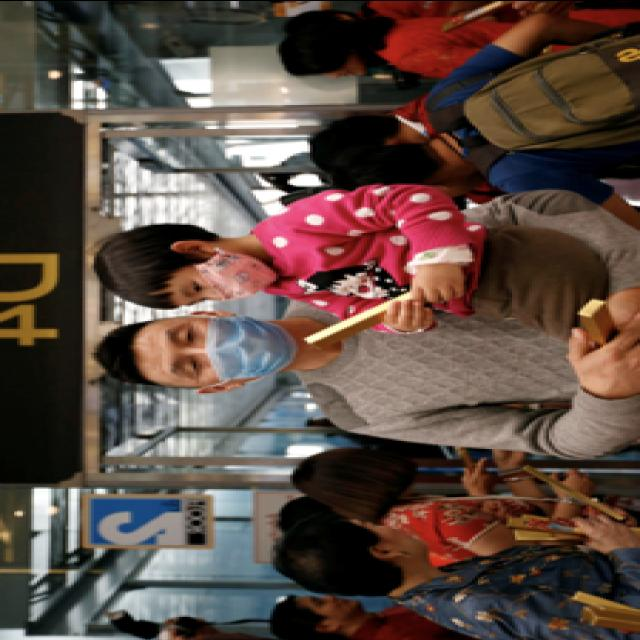with_mask: (156, 315, 292, 384), (176, 251, 278, 301)
without_mask: (304, 594, 362, 622), (307, 54, 367, 78)
